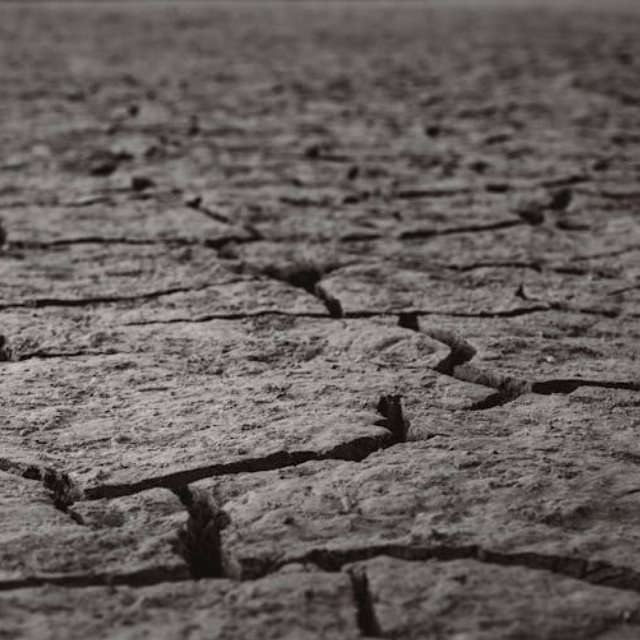网状裂隙: (215, 424, 452, 640), (351, 410, 563, 640), (418, 418, 593, 640)
